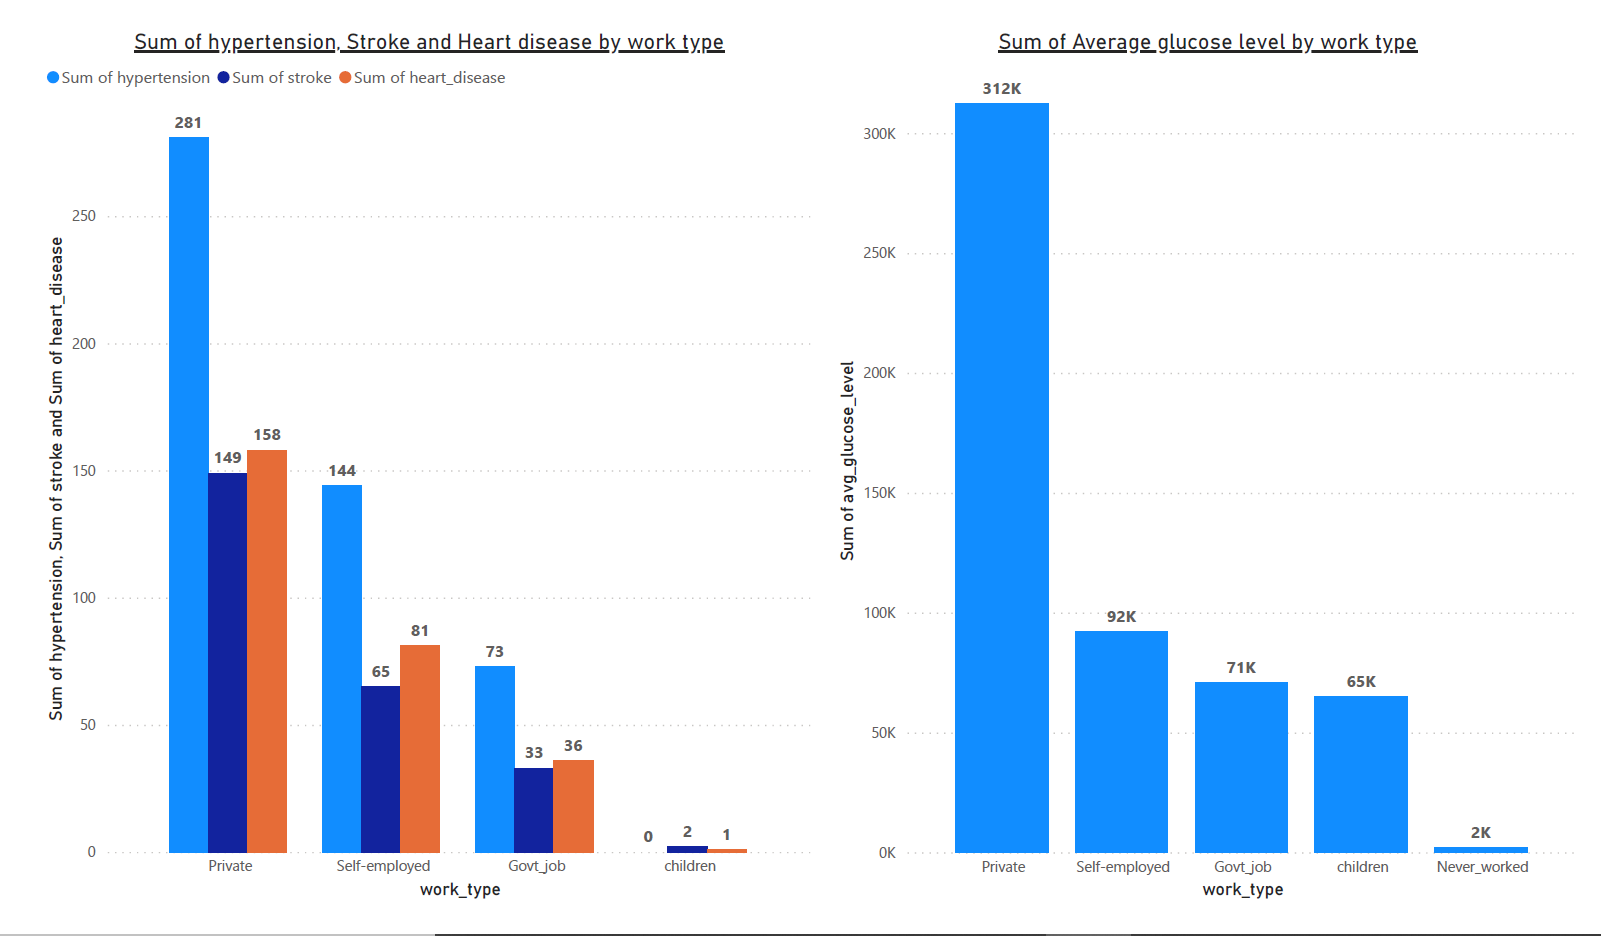

The dashboard page shown, as its layout file describes it:
{"tool":"powerbi","page":{"name":"Page 6","canvas":[1280,720],"ordinal":5},"visuals":[{"type":"clusteredColumnChart","title":"Sum of hypertension, Stroke and Heart disease by work type","fields":{"Category":["healthcare-dataset-stroke-data.work_type"],"Y":["Sum(healthcare-dataset-stroke-data.hypertension)","Sum(healthcare-dataset-stroke-data.stroke)","Sum(healthcare-dataset-stroke-data.heart_disease)"]},"box":[10.6,0,640,720.2],"z":0},{"type":"clusteredColumnChart","title":"Sum of Average glucose level by work type","fields":{"Category":["healthcare-dataset-stroke-data.work_type"],"Y":["Sum(healthcare-dataset-stroke-data.avg_glucose_level)"]},"box":[661,0,619,720],"z":1000}]}

Visuals, with their boxes on the page's 1280x720 design canvas (x1, y1, x2, y2). These are canvas units, not pixel positions in the 1601x936 screenshot, which may show the page scaled, cropped or inside an application window:
"Sum of hypertension, Stroke and Heart disease by work type" clusteredColumnChart: l=11, t=0, r=651, b=720
"Sum of Average glucose level by work type" clusteredColumnChart: l=661, t=0, r=1280, b=720
